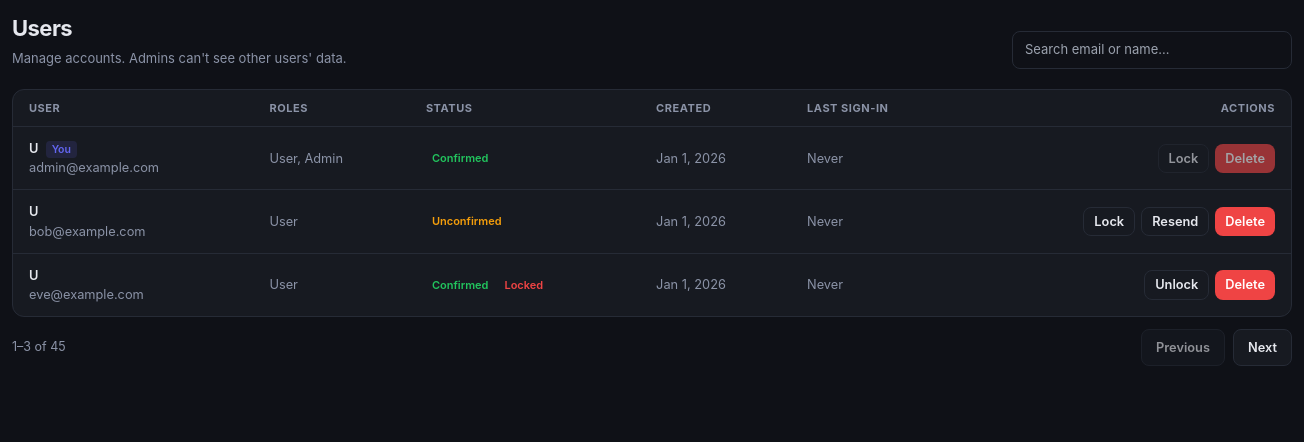
Test case: AdminUsersPageComponent › shows the rate-limit message with the Retry-After seconds
Click the button "Lock" in the row of "bob@example.com" at [1109, 222], box [1083, 207, 1135, 236]
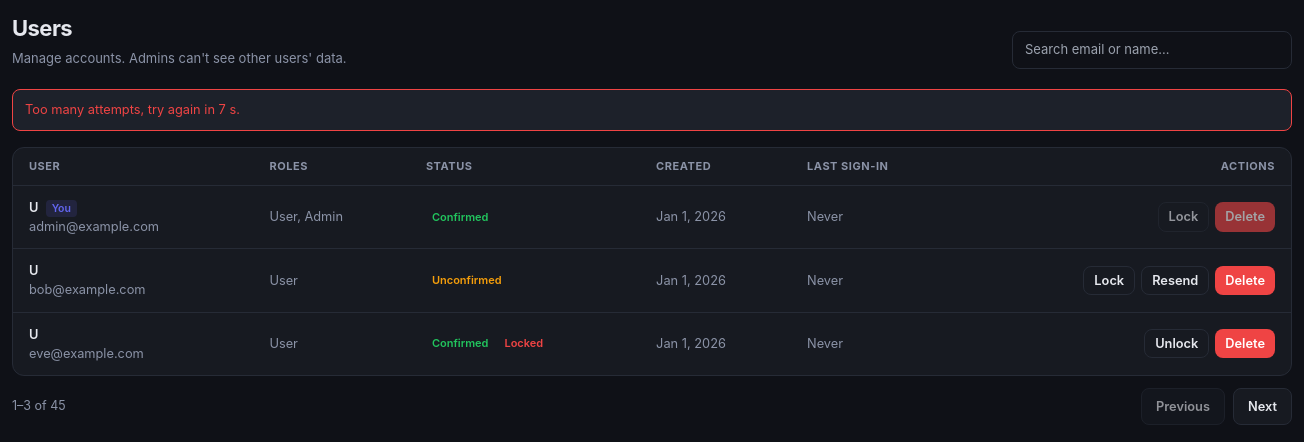
Check: the message "Too many attempts, try again in 7 s." is shown, box [12, 88, 1292, 131]
